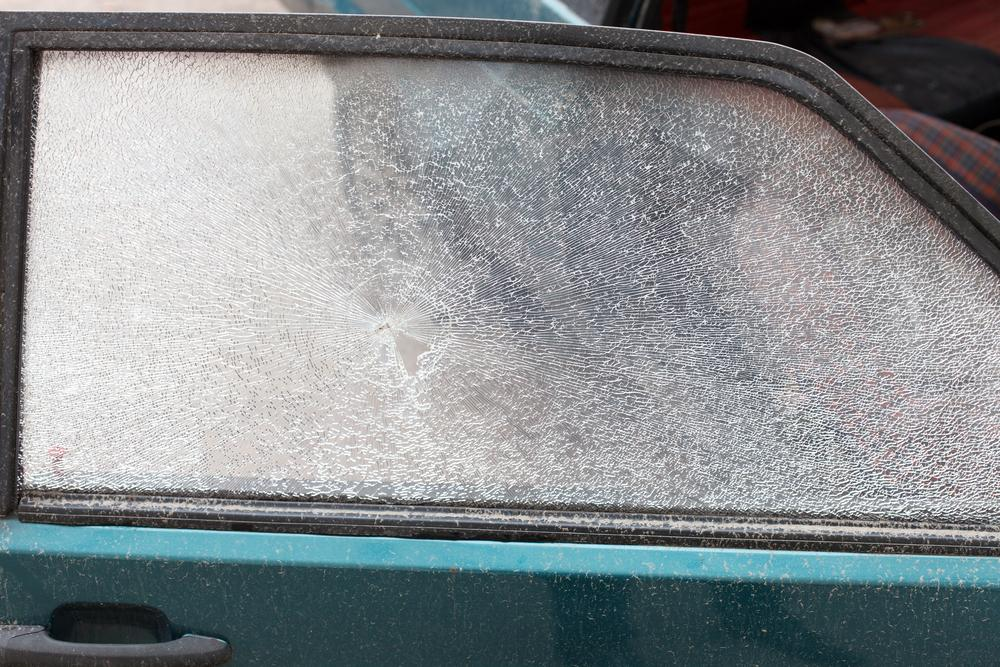glass shatter: (17, 48, 1000, 527)
